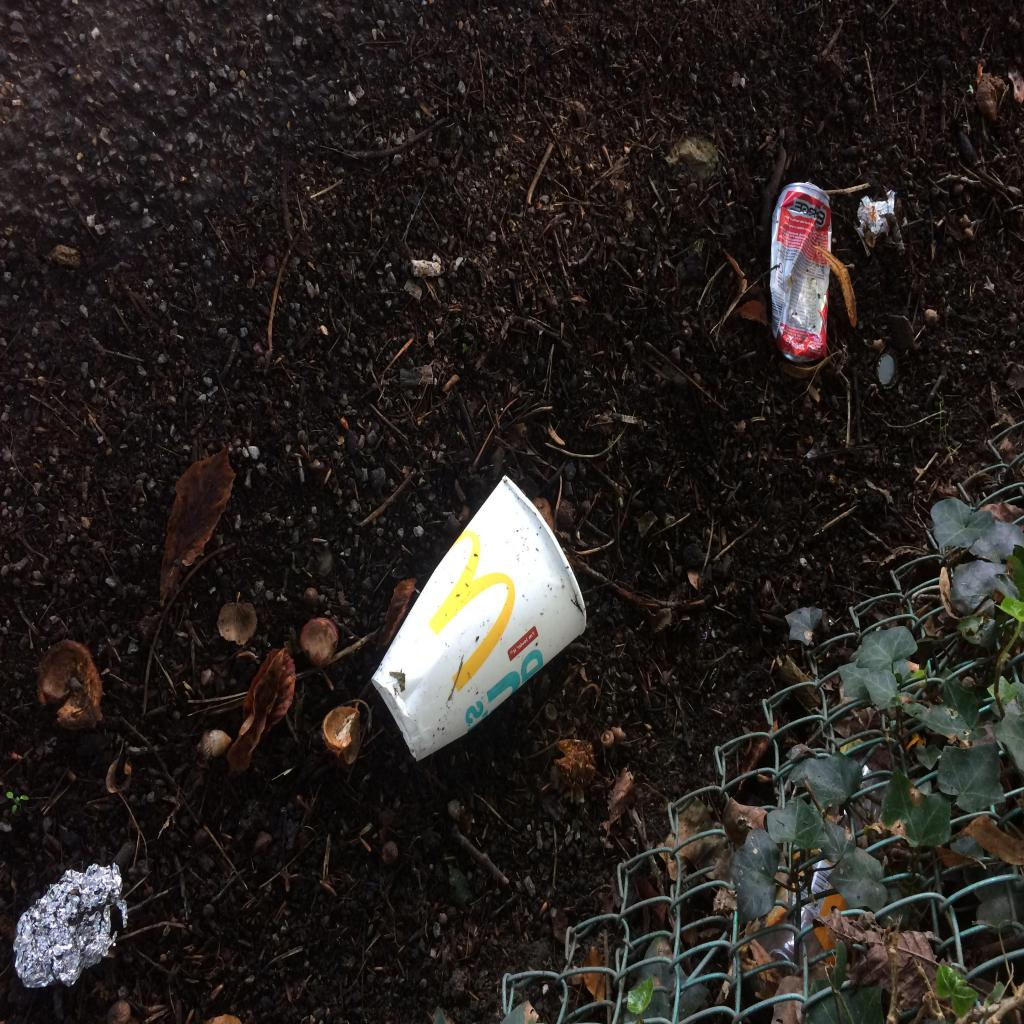Aluminium foil: (12, 862, 128, 988), (857, 190, 895, 238)
Clear plastic bottle: (756, 764, 888, 974)
Drink can: (770, 182, 832, 362)
Metal bottle cap: (876, 351, 898, 389)
Paper cup: (371, 475, 586, 761)
